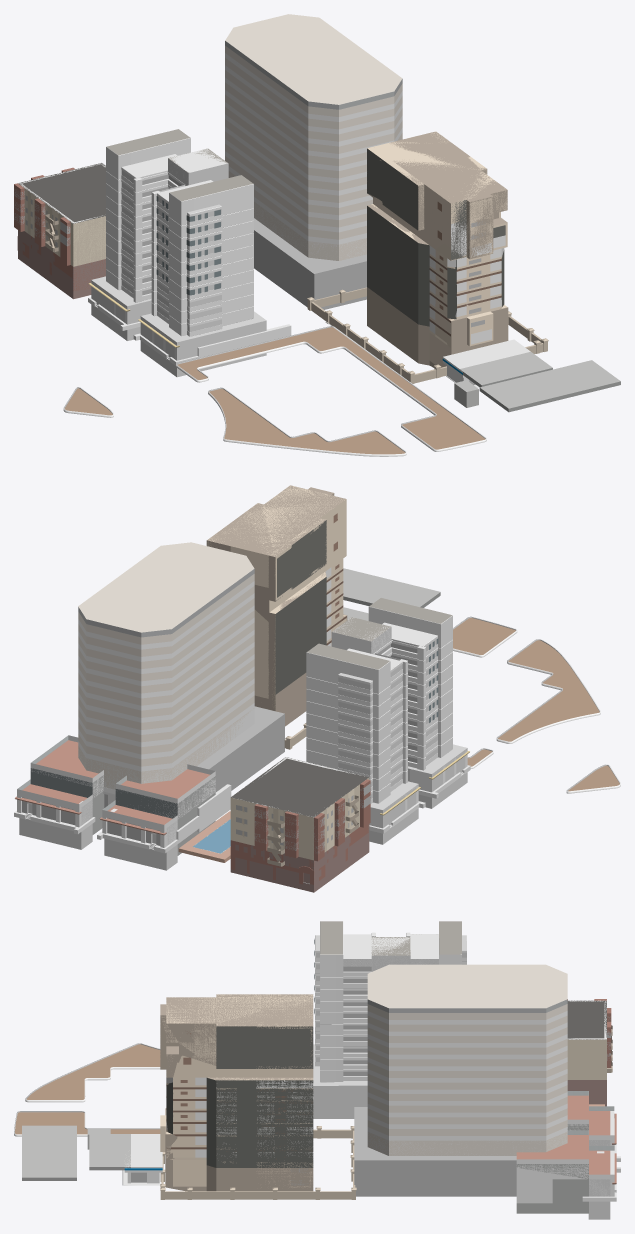
File: city_block8.dae
3 renders of one model, top to bottom at view 1: azimuth 30°, elevation 25°; view 2: azimuth 150°, elevation 25°; view 3: azimuth 270°, elevation 25°, orthographic. The views are drawn at different scales.
Parts seen in each view (by area): view 1: city_block8_a700, city_block8_a1400; view 2: city_block8_a700, city_block8_a1400; view 3: city_block8_a700, city_block8_a1400.
Boxes of the visible parts, left/top/right/bottom form: city_block8_a700: left=14, top=14, right=620, bottom=412; city_block8_a1400: left=14, top=53, right=548, bottom=456; city_block8_a700: left=19, top=485, right=467, bottom=892; city_block8_a1400: left=14, top=485, right=620, bottom=884; city_block8_a700: left=22, top=921, right=611, bottom=1219; city_block8_a1400: left=14, top=921, right=620, bottom=1203.
Size of the model in its own units: 109 by 142 by 52.57.
